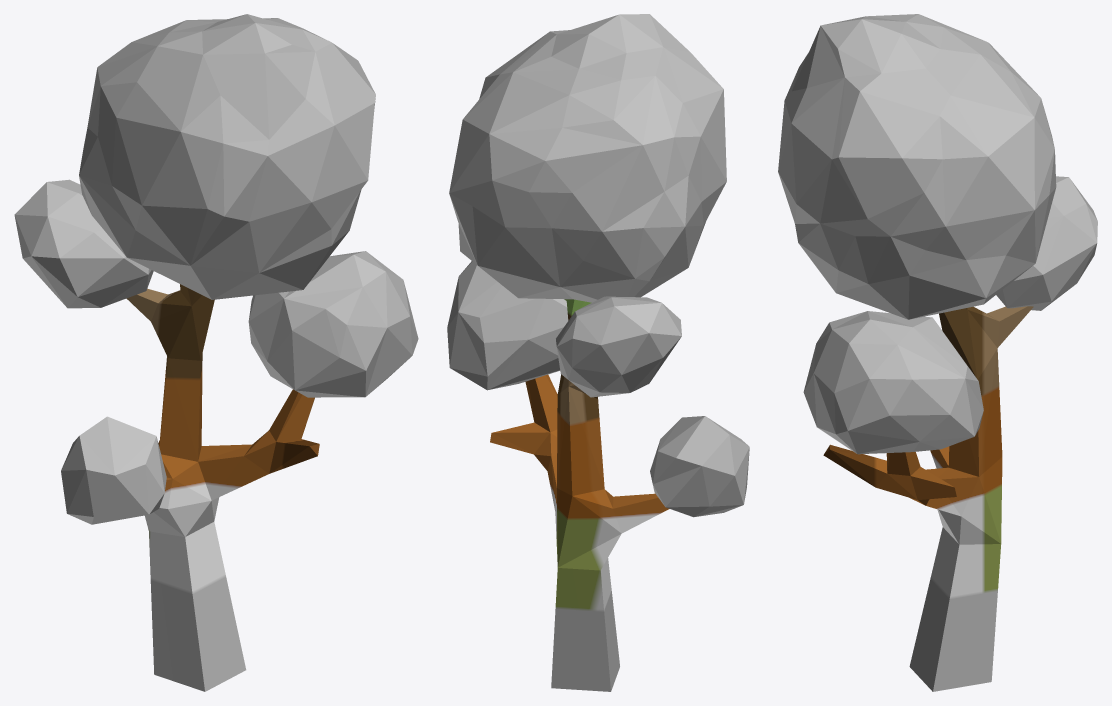
Rendered from Tree_11.fbx.
3 views of the same model, side by side, from view 1: azimuth 30°, elevation 25°; view 2: azimuth 150°, elevation 25°; view 3: azimuth 270°, elevation 25° (orthographic). The views are drawn at different scales.
Visible parts, largest first — view 1: Tree_11; view 2: Tree_11; view 3: Tree_11.
Part boxes in pixels (x1,y1,x2,y2): Tree_11: [14, 14, 418, 691]; Tree_11: [447, 14, 749, 691]; Tree_11: [778, 14, 1097, 691].
Bounding box in the file's own units: 4.97 × 10.12 × 4.45.
